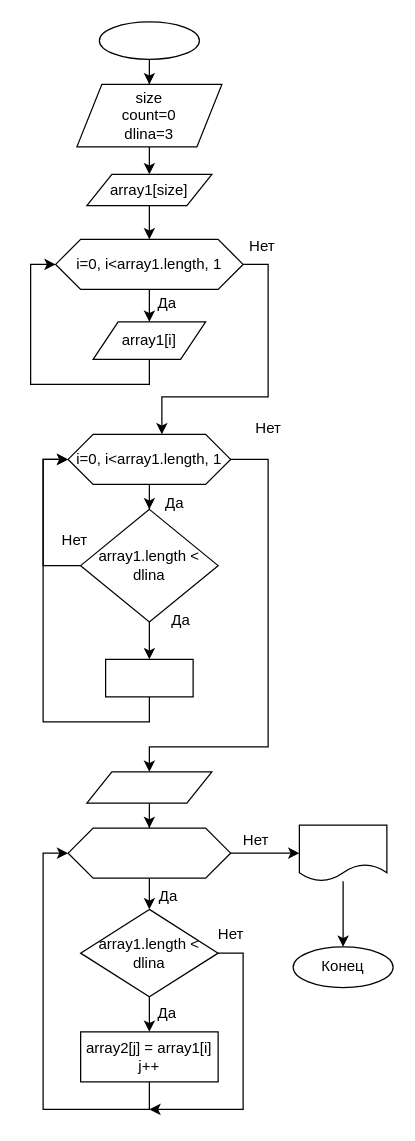
The diagram is 415 pixels wide and 1141 high, and some of its shapes have lost their labels. The shapes that lost their labels are listed below. From the top down, each one's box as (x1, y1, x2, y2) in pixels, then its label:
(98, 21, 199, 59): Начало
(104, 658, 193, 697): count++
(86, 771, 212, 803): array2[count]
(67, 827, 231, 878): i=0, j=0, i<array1.length, 1
(298, 824, 387, 881): Вывод array2
